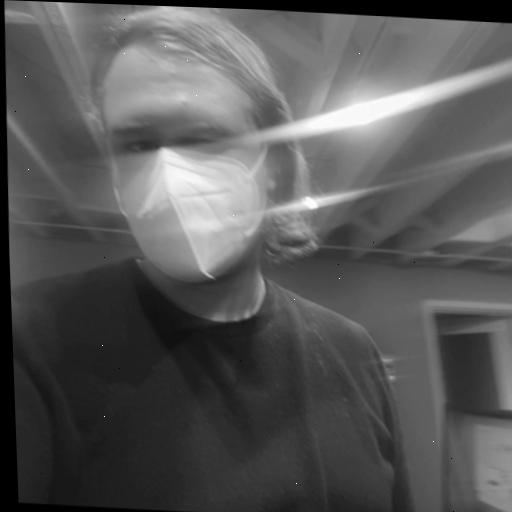mask: (79, 3, 321, 288)
